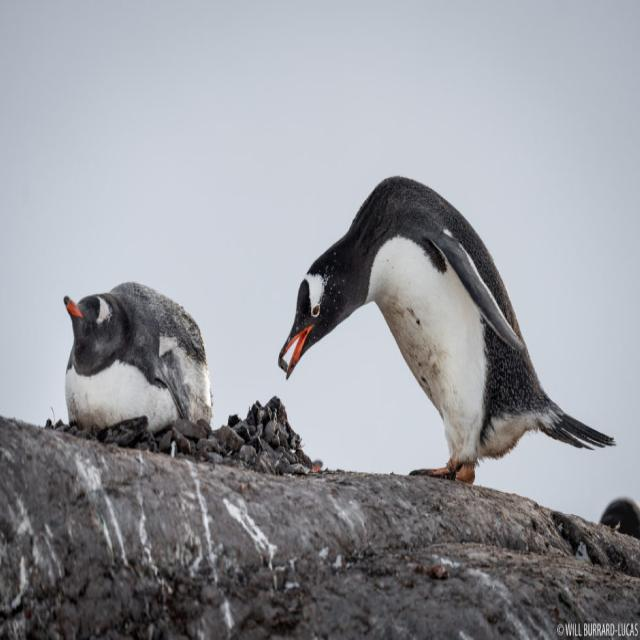Penguins: (274, 162, 612, 481), (55, 280, 219, 449)
